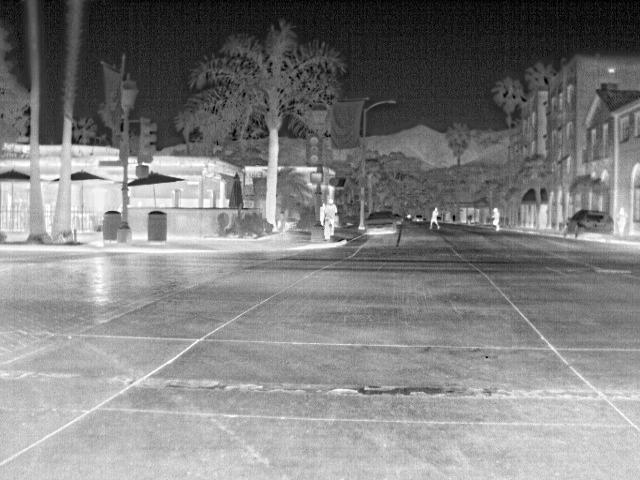car: (565, 209, 614, 242), (363, 210, 399, 236)
person: (429, 204, 445, 232), (616, 206, 629, 239), (490, 206, 504, 232), (325, 197, 339, 223)
